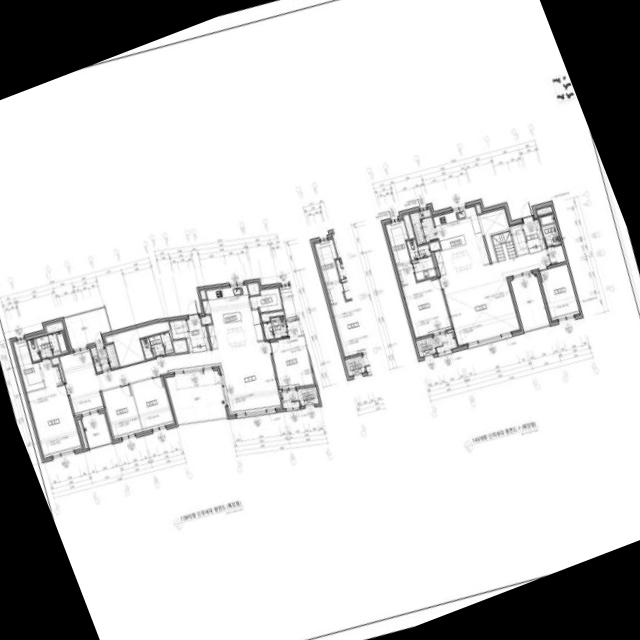background: (0, 0, 640, 640)
space_balconi: (165, 370, 226, 423), (510, 274, 549, 330), (64, 309, 110, 348), (81, 413, 111, 447), (410, 209, 437, 244), (90, 344, 119, 372), (433, 332, 457, 352), (280, 390, 299, 408)
space_bedroom: (27, 359, 81, 457), (396, 262, 451, 338), (130, 376, 173, 431), (270, 336, 314, 389), (538, 264, 579, 320), (102, 384, 142, 438)
space_dressroom: (13, 339, 44, 391), (279, 285, 304, 337), (385, 220, 410, 265)
space_front: (186, 314, 210, 352), (522, 219, 545, 253)
space_kitchen: (202, 285, 264, 348), (433, 206, 489, 275)
space_living_room: (59, 341, 281, 415), (440, 249, 549, 345)
space_other: (105, 321, 170, 366), (479, 208, 509, 262), (490, 230, 517, 262), (250, 288, 282, 312), (510, 224, 528, 255), (297, 386, 319, 406), (169, 319, 189, 339), (547, 245, 565, 264), (77, 419, 88, 449), (51, 357, 64, 381), (403, 214, 414, 238), (261, 311, 284, 322), (172, 339, 187, 353), (46, 322, 63, 333), (536, 206, 552, 215), (247, 283, 259, 295), (429, 241, 440, 251), (201, 315, 211, 324), (200, 290, 206, 299), (475, 204, 481, 213)
space_outdoor_room: (415, 336, 436, 357)
space_toilet: (406, 239, 436, 280), (27, 331, 67, 361), (140, 332, 173, 359), (538, 213, 560, 247), (263, 316, 288, 339)
